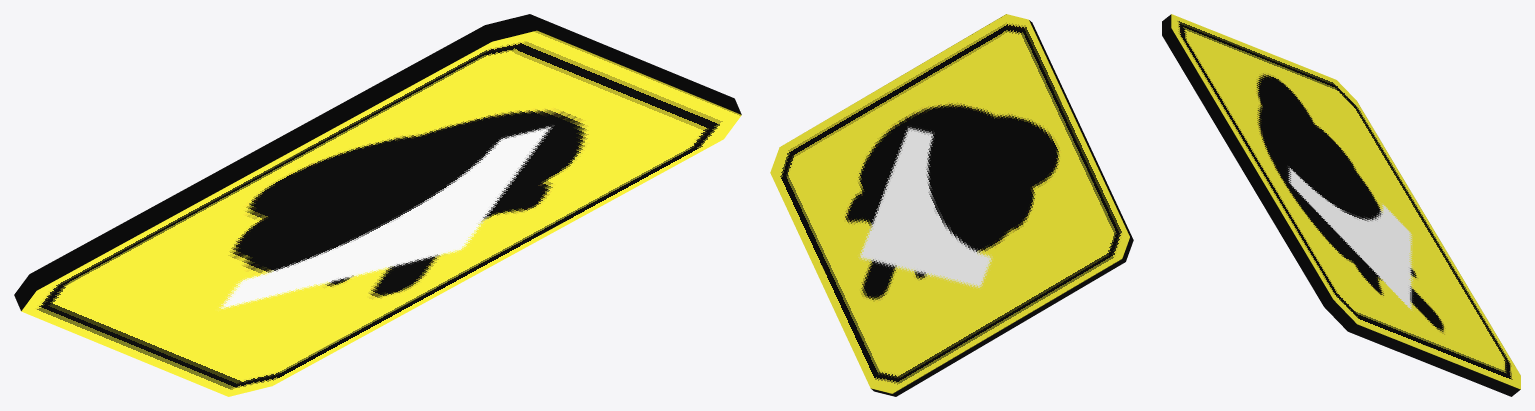
File: ps2_save-icons_tonyhawksunderground2-park.glb
3 renders of one model, left to right at view 1: azimuth 30°, elevation 25°; view 2: azimuth 150°, elevation 25°; view 3: azimuth 270°, elevation 25°, orthographic. The views are drawn at different scales.
Parts seen in each view (by area): view 1: parked.ico; view 2: parked.ico; view 3: parked.ico.
Boxes of the visible parts, bbox=[...] form: parked.ico: bbox=[14, 14, 741, 396]; parked.ico: bbox=[770, 14, 1133, 396]; parked.ico: bbox=[1162, 14, 1520, 396].
Bounding box in the file's own units: 4.75 × 3.64 × 3.22.
1 material, 1 textured.
